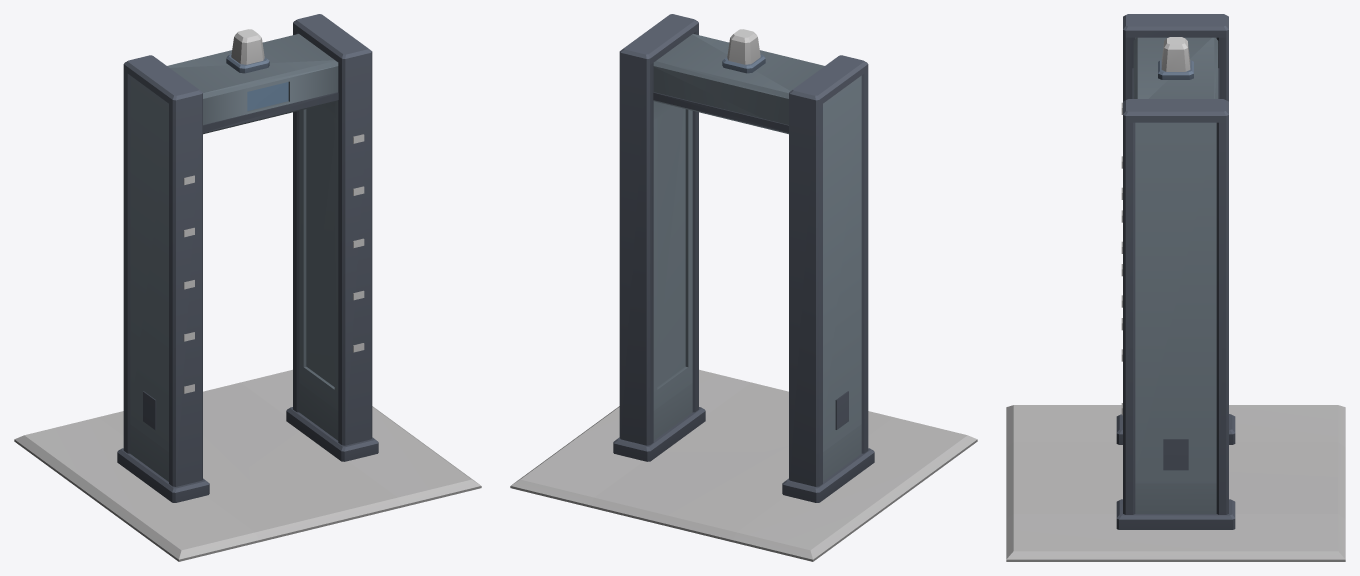
File: arch.glb
3 renders of one model, left to right at view 1: azimuth 30°, elevation 25°; view 2: azimuth 150°, elevation 25°; view 3: azimuth 270°, elevation 25°, orthographic. The views are drawn at different scales.
Parts seen in each view (by area): view 1: arch.001; view 2: arch.001; view 3: arch.001.
Part boxes in pixels (x1,y1,x2,y2): arch.001: (14, 14, 481, 561); arch.001: (510, 14, 977, 561); arch.001: (1006, 14, 1345, 561).
Bounding box in the file's own units: 1.7 × 2.32 × 1.6.
